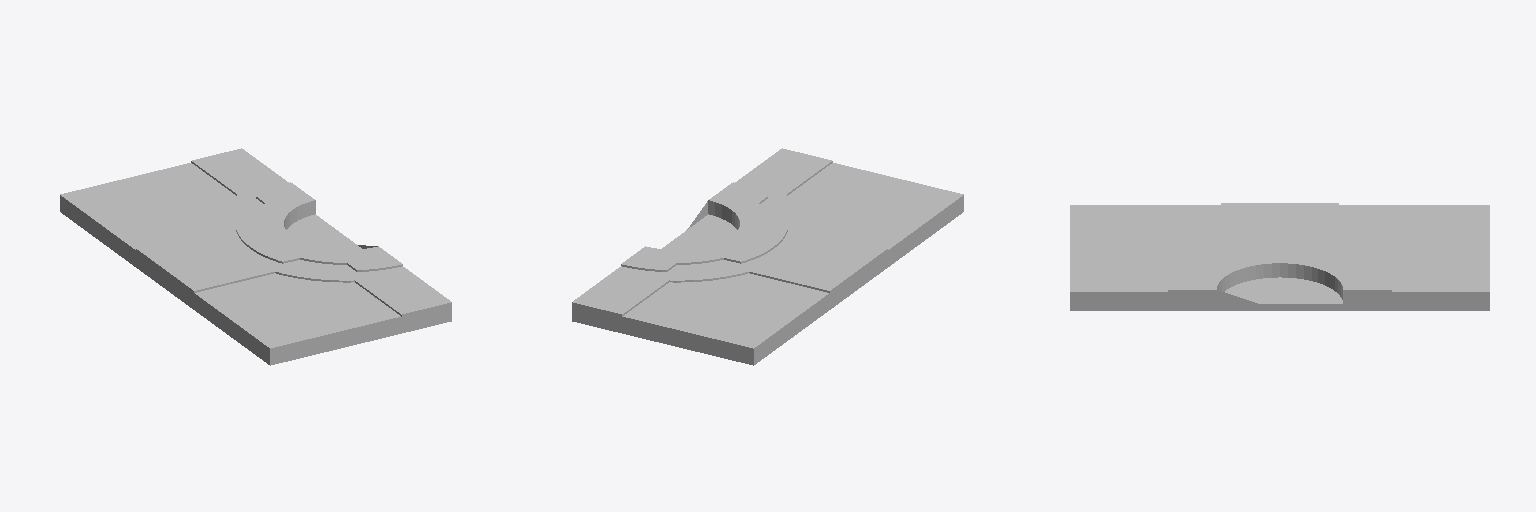
File: DoorZero_low.obj
The picture shows the model from 3 angles: view 1: azimuth 30°, elevation 25°; view 2: azimuth 150°, elevation 25°; view 3: azimuth 270°, elevation 25°; orthographic projection.
Visible parts, largest first — view 1: doorsub_low_Cube.007; view 2: doorsub_low_Cube.007; view 3: doorsub_low_Cube.007.
Boxes of the visible parts, box(x1,y1,x2,y2) form: doorsub_low_Cube.007: box(60, 148, 451, 365); doorsub_low_Cube.007: box(572, 148, 963, 365); doorsub_low_Cube.007: box(1070, 203, 1489, 310).
Size of the model in its own units: 0.2 by 0.0221 by 0.4.